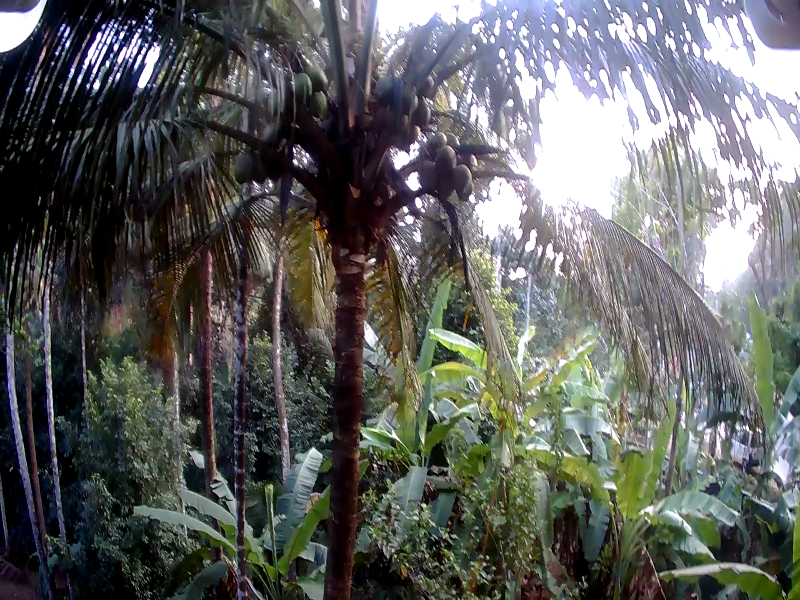coconut: (410, 93, 429, 129), (376, 73, 395, 108), (417, 164, 443, 189), (236, 149, 252, 188), (305, 87, 326, 112), (452, 164, 469, 194), (437, 145, 454, 173), (290, 75, 309, 100), (398, 86, 415, 112), (306, 67, 326, 87), (431, 132, 447, 149)
